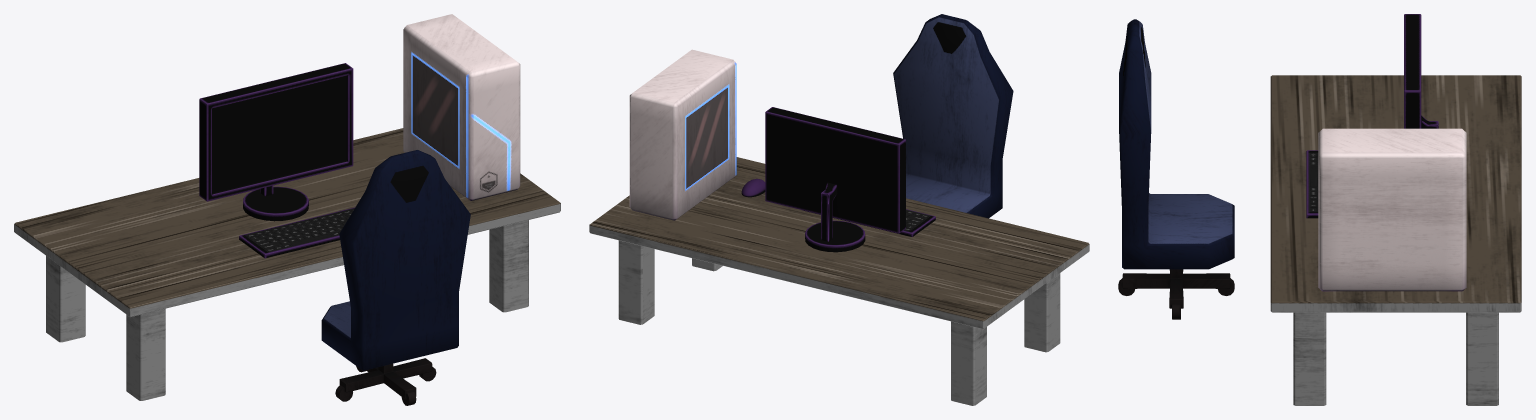
File: Escritorio.fbx
3 renders of one model, left to right at view 1: azimuth 30°, elevation 25°; view 2: azimuth 150°, elevation 25°; view 3: azimuth 270°, elevation 25°, orthographic. The views are drawn at different scales.
Parts seen in each view (by area): view 1: Mesa, Silla, Pantalla, PC, Teclado; view 2: Mesa, Silla, Pantalla, PC, Teclado; view 3: Mesa, PC, Silla, Pantalla, Teclado.
Boxes of the visible parts, bbox=[...] form: Mesa: bbox=[14, 128, 560, 400]; Silla: bbox=[321, 150, 470, 405]; Pantalla: bbox=[199, 63, 353, 221]; PC: bbox=[403, 14, 520, 200]; Teclado: bbox=[239, 207, 355, 258]; Mesa: bbox=[589, 157, 1089, 405]; Silla: bbox=[893, 14, 1013, 218]; Pantalla: bbox=[765, 107, 905, 252]; PC: bbox=[629, 49, 736, 220]; Teclado: bbox=[802, 209, 935, 236]; Mesa: bbox=[1270, 75, 1521, 405]; PC: bbox=[1318, 128, 1466, 291]; Silla: bbox=[1118, 19, 1234, 319]; Pantalla: bbox=[1404, 14, 1438, 128]; Teclado: bbox=[1306, 150, 1318, 218].
Size of the model in its own units: 314 by 177 by 236.
3 materials, 3 textured.
